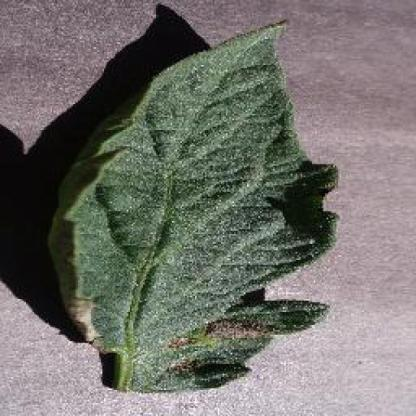Tomato_Blight: (47, 29, 341, 394)
